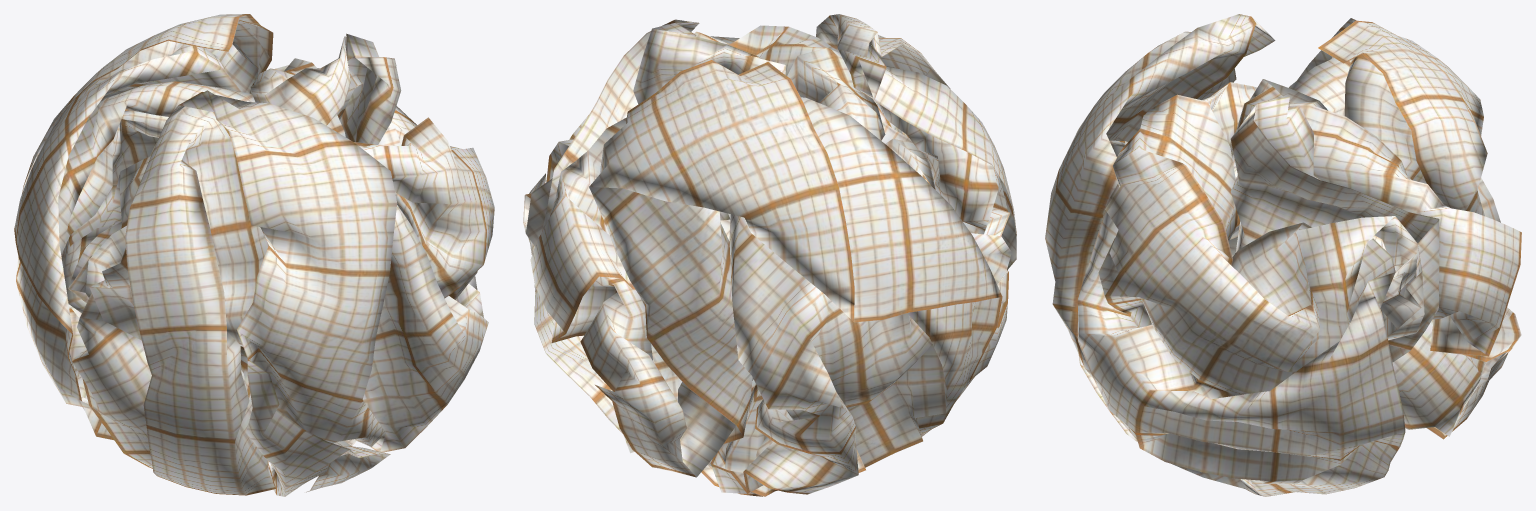
The model's file is boulette.FBX.
The picture shows the model from 3 angles, left to right: view 1: azimuth 30°, elevation 25°; view 2: azimuth 150°, elevation 25°; view 3: azimuth 270°, elevation 25°; orthographic projection. The views are drawn at different scales.
Parts seen in each view (by area): view 1: Plane002; view 2: Plane002; view 3: Plane002.
Boxes of the visible parts, left/top/right/bottom form: Plane002: left=14, top=14, right=494, bottom=496; Plane002: left=523, top=14, right=1016, bottom=496; Plane002: left=1045, top=14, right=1521, bottom=496.
Size of the model in its own units: 413 by 402 by 405.
